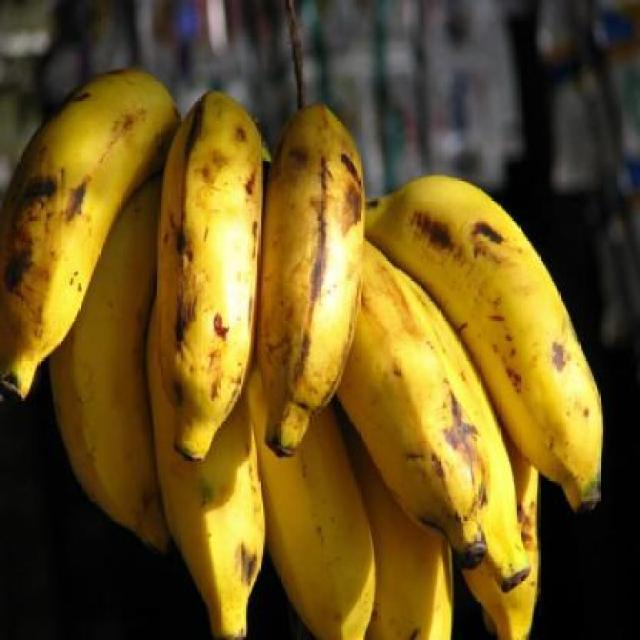Banana: (0, 66, 605, 640)
